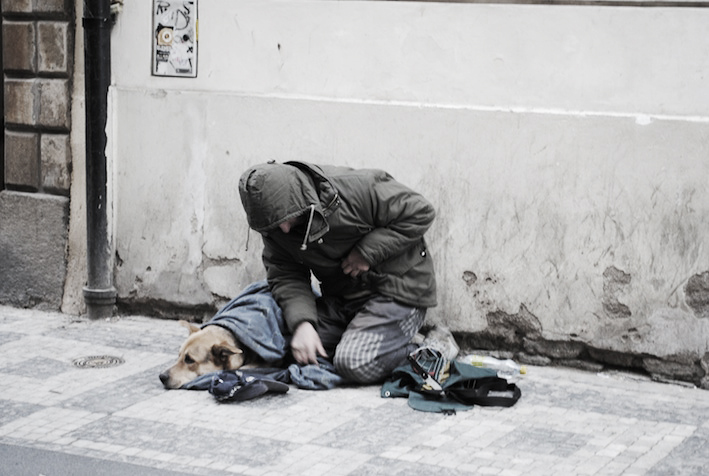gelandangan: (154, 152, 536, 428)
